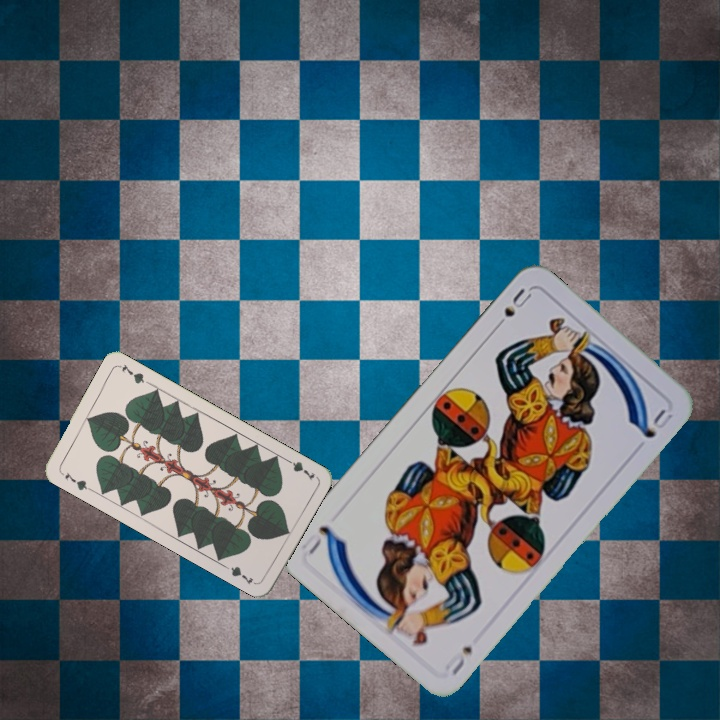G7: (281, 454, 318, 483), (61, 468, 94, 493)
SU: (489, 284, 535, 334), (440, 641, 475, 678)
